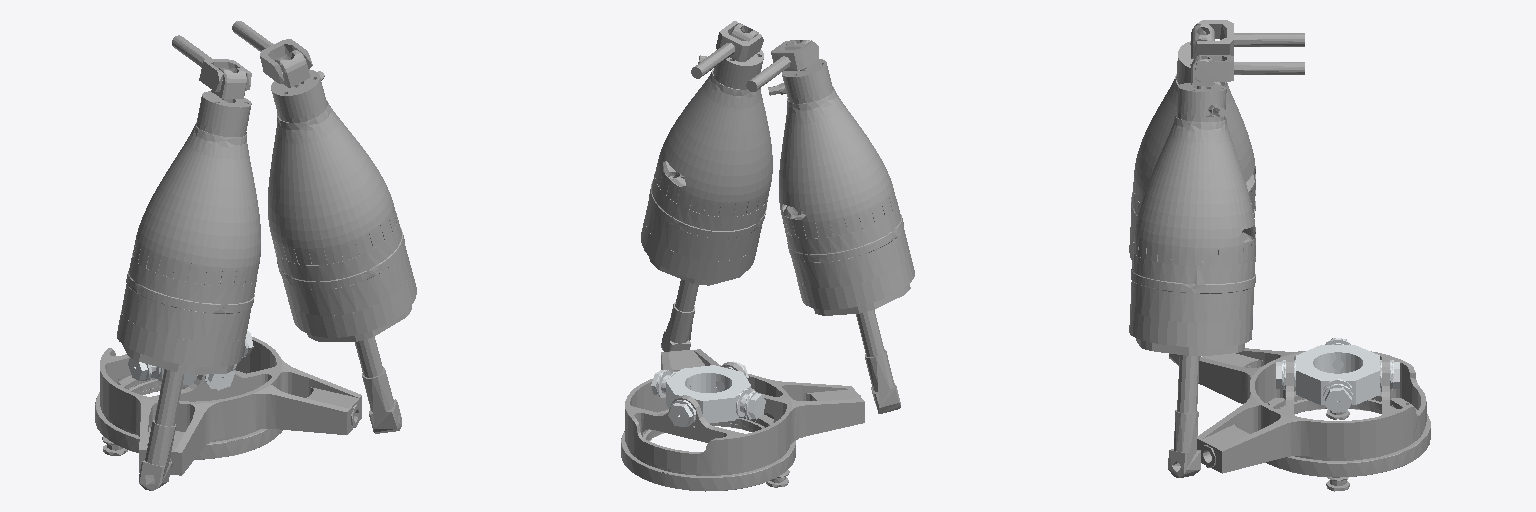
robot.urdf — Body:
<robot name="Body">
  <link name="BodyBase_Link">
    <inertial>
      <origin xyz="0.0 0.0 0.0" rpy="0.0 0.0 0.0"/>
      <mass value="0.0"/>
      <inertia ixx="0.0" ixy="0.0" ixz="0.0" iyy="0.0" iyz="0.0" izz="0.0"/>
    </inertial>
  </link>
  <joint name="BodyPitch" type="revolute">
    <origin xyz="0.0 0.0 0.0" rpy="3.14159 0.0 1.5708"/>
    <axis xyz="0.0 1.0 0.0"/>
    <parent link="BodyBase_Link"/>
    <child link="BodyPitch_Link"/>
    <limit effort="140.0" lower="-0.367" upper="0.489" velocity="2.321"/>
  </joint>
  <link name="BodyPitch_Link">
    <inertial>
      <origin xyz="-1.3464e-09 2.3289e-09 2.2552e-09" rpy="0.0 0.0 0.0"/>
      <mass value="0.085152"/>
      <inertia ixx="2.6756e-05" ixy="-2.1852e-12" ixz="-2.2958e-12" iyy="2.6756e-05" iyz="-2.6082e-13" izz="5.0206e-05"/>
    </inertial>
    <visual name="BodyPitch_Link_visual">
      <origin xyz="0.0 0.0 0.0" rpy="0.0 0.0 0.0"/>
      <geometry>
        <mesh filename="../meshes/stl/BodyPitch_Link.STL"/>
      </geometry>
      <material name="">
        <color rgba="0.89804 0.91765 0.92941 1.0"/>
      </material>
    </visual>
    <collision name="BodyPitch_Link_collision">
      <origin xyz="0.0 0.0 0.0" rpy="0.0 0.0 0.0"/>
      <geometry>
        <mesh filename="../meshes/stl/BodyPitch_Link.STL"/>
      </geometry>
    </collision>
  </link>
  <joint name="BodyRoll" type="revolute">
    <origin xyz="0.0 0.0 0.0" rpy="9.4311e-35 0.0 0.0"/>
    <axis xyz="1.0 0.0 0.0"/>
    <parent link="BodyPitch_Link"/>
    <child link="BodyRoll_Link"/>
    <limit effort="140.0" lower="-0.402" upper="0.402" velocity="2.321"/>
  </joint>
  <link name="BodyRoll_Link">
    <inertial>
      <origin xyz="-0.018531 1.3194e-09 0.025426" rpy="0.0 0.0 0.0"/>
      <mass value="0.31532"/>
      <inertia ixx="0.00053663" ixy="-3.6063e-10" ixz="-2.5818e-05" iyy="0.00050964" iyz="-3.7361e-11" izz="0.00097717"/>
    </inertial>
    <visual name="BodyRoll_Link_visual">
      <origin xyz="0.0 0.0 0.0" rpy="0.0 0.0 0.0"/>
      <geometry>
        <mesh filename="../meshes/stl/BodyRoll_Link.STL"/>
      </geometry>
      <material name="">
        <color rgba="0.69804 0.69804 0.69804 1.0"/>
      </material>
    </visual>
    <collision name="BodyRoll_Link_collision">
      <origin xyz="0.0 0.0 0.0" rpy="0.0 0.0 0.0"/>
      <geometry>
        <mesh filename="../meshes/stl/BodyRoll_Link.STL"/>
      </geometry>
    </collision>
  </link>
  <joint name="Body_Act1" type="prismatic">
    <origin xyz="0.0 0.0 0.24008" rpy="5.9043e-18 0.0 -1.0277e-19"/>
    <axis xyz="0.0 0.0 1.0"/>
    <parent link="Body_B12_Link"/>
    <child link="Body_Act1_Link"/>
    <limit effort="874.0" lower="-0.01" upper="0.01" velocity="0.291"/>
  </joint>
  <link name="Body_Act1_Link">
    <inertial>
      <origin xyz="2.411e-13 -1.992e-13 -0.074113" rpy="0.0 0.0 0.0"/>
      <mass value="0.16486"/>
      <inertia ixx="0.00041758" ixy="-7.8776e-09" ixz="8.4801e-16" iyy="0.00041757" iyz="-7.0091e-16" izz="3.5325e-06"/>
    </inertial>
    <visual name="Body_Act1_Link_visual">
      <origin xyz="0.0 0.0 0.0" rpy="0.0 0.0 0.0"/>
      <geometry>
        <mesh filename="../meshes/stl/Body_Act1_Link.STL"/>
      </geometry>
      <material name="">
        <color rgba="0.69804 0.69804 0.69804 1.0"/>
      </material>
    </visual>
    <collision name="Body_Act1_Link_collision">
      <origin xyz="0.0 0.0 0.0" rpy="0.0 0.0 0.0"/>
      <geometry>
        <mesh filename="../meshes/stl/Body_Act1_Link.STL"/>
      </geometry>
    </collision>
  </link>
  <joint name="Body_Act2" type="prismatic">
    <origin xyz="0.0 0.0 0.24008" rpy="-3.8527e-17 0.0 1.2552e-18"/>
    <axis xyz="0.0 0.0 1.0"/>
    <parent link="Body_B22_Link"/>
    <child link="Body_Act2_Link"/>
    <limit effort="874.0" lower="-0.01" upper="0.01" velocity="0.291"/>
  </joint>
  <link name="Body_Act2_Link">
    <inertial>
      <origin xyz="2.4164e-13 1.9856e-13 -0.074113" rpy="0.0 0.0 0.0"/>
      <mass value="0.16486"/>
      <inertia ixx="0.00041758" ixy="7.8776e-09" ixz="8.4854e-16" iyy="0.00041757" iyz="7.0039e-16" izz="3.5325e-06"/>
    </inertial>
    <visual name="Body_Act2_Link_visual">
      <origin xyz="0.0 0.0 0.0" rpy="0.0 0.0 0.0"/>
      <geometry>
        <mesh filename="../meshes/stl/Body_Act2_Link.STL"/>
      </geometry>
      <material name="">
        <color rgba="0.69804 0.69804 0.69804 1.0"/>
      </material>
    </visual>
    <collision name="Body_Act2_Link_collision">
      <origin xyz="0.0 0.0 0.0" rpy="0.0 0.0 0.0"/>
      <geometry>
        <mesh filename="../meshes/stl/Body_Act2_Link.STL"/>
      </geometry>
    </collision>
  </link>
  <joint name="Body_B11" type="revolute">
    <origin xyz="-0.02 -0.08 0.21" rpy="-2.90242 0.0 1.57079632679"/>
    <axis xyz="1.0 0.0 0.0"/>
    <parent link="BodyBase_Link"/>
    <child link="Body_B11_Link"/>
    <limit effort="0.0" lower="0" upper="0" velocity="0.0"/>
  </joint>
  <link name="Body_B11_Link">
    <inertial>
      <origin xyz="0.024193 0.0 -1.3878e-17" rpy="0.0 0.0 0.0"/>
      <mass value="0.041"/>
      <inertia ixx="1.7814e-06" ixy="5.5829e-22" ixz="1.8238e-21" iyy="1.2712e-05" iyz="-6.3527e-22" izz="1.3807e-05"/>
    </inertial>
    <visual name="Body_B11_Link_visual">
      <origin xyz="0.0 0.0 0.0" rpy="0.0 0.0 0.0"/>
      <geometry>
        <mesh filename="../meshes/stl/Body_B11_Link.STL"/>
      </geometry>
      <material name="">
        <color rgba="0.69804 0.69804 0.69804 1.0"/>
      </material>
    </visual>
    <collision name="Body_B11_Link_collision">
      <origin xyz="0.0 0.0 0.0" rpy="0.0 0.0 0.0"/>
      <geometry>
        <mesh filename="../meshes/stl/Body_B11_Link.STL"/>
      </geometry>
    </collision>
  </link>
  <joint name="Body_B12" type="revolute">
    <origin xyz="0.0 0.0 0.0" rpy="-1.3337e-15 -0.04601 -2.9484e-18"/>
    <axis xyz="0.0 1.0 0.0"/>
    <parent link="Body_B11_Link"/>
    <child link="Body_B12_Link"/>
    <limit effort="0.0" lower="0" upper="0" velocity="0.0"/>
  </joint>
  <link name="Body_B12_Link">
    <inertial>
      <origin xyz="-2.3739e-06 1.801e-05 0.11892" rpy="0.0 0.0 0.0"/>
      <mass value="0.525"/>
      <inertia ixx="0.00091851" ixy="-2.4755e-08" ixz="5.5277e-07" iyy="0.00091807" iyz="1.2075e-06" izz="0.00039619"/>
    </inertial>
    <visual name="Body_B12_Link_visual">
      <origin xyz="0.0 0.0 0.0" rpy="0.0 0.0 0.0"/>
      <geometry>
        <mesh filename="../meshes/stl/Body_B12_Link.STL"/>
      </geometry>
      <material name="">
        <color rgba="0.69804 0.69804 0.69804 1.0"/>
      </material>
    </visual>
    <collision name="Body_B12_Link_collision">
      <origin xyz="0.0 0.0 0.0" rpy="0.0 0.0 0.0"/>
      <geometry>
        <mesh filename="../meshes/stl/Body_B12_Link.STL"/>
      </geometry>
    </collision>
  </link>
  <joint name="Body_B21" type="revolute">
    <origin xyz="0.02 -0.08 0.21" rpy="2.90242 0.0 1.57079632679"/>
    <axis xyz="1.0 0.0 0.0"/>
    <parent link="BodyBase_Link"/>
    <child link="Body_B21_Link"/>
    <limit effort="0.0" lower="0" upper="0" velocity="0.0"/>
  </joint>
  <link name="Body_B21_Link">
    <inertial>
      <origin xyz="0.024193 0.0 0.0" rpy="0.0 0.0 0.0"/>
      <mass value="0.041"/>
      <inertia ixx="1.7814e-06" ixy="-6.8803e-22" ixz="1.0426e-22" iyy="1.2712e-05" iyz="-1.4823e-21" izz="1.3807e-05"/>
    </inertial>
    <visual name="Body_B21_Link_visual">
      <origin xyz="0.0 0.0 0.0" rpy="0.0 0.0 0.0"/>
      <geometry>
        <mesh filename="../meshes/stl/Body_B21_Link.STL"/>
      </geometry>
      <material name="">
        <color rgba="0.69804 0.69804 0.69804 1.0"/>
      </material>
    </visual>
    <collision name="Body_B21_Link_collision">
      <origin xyz="0.0 0.0 0.0" rpy="0.0 0.0 0.0"/>
      <geometry>
        <mesh filename="../meshes/stl/Body_B21_Link.STL"/>
      </geometry>
    </collision>
  </link>
  <joint name="Body_B22" type="revolute">
    <origin xyz="0.0 0.0 0.0" rpy="-3.612e-16 -0.04601 -1.0723e-18"/>
    <axis xyz="0.0 1.0 0.0"/>
    <parent link="Body_B21_Link"/>
    <child link="Body_B22_Link"/>
    <limit effort="0.0" lower="0" upper="0" velocity="0.0"/>
  </joint>
  <link name="Body_B22_Link">
    <inertial>
      <origin xyz="-2.375e-06 1.8011e-05 0.11892" rpy="0.0 0.0 0.0"/>
      <mass value="0.525"/>
      <inertia ixx="0.00091851" ixy="-2.4752e-08" ixz="5.5262e-07" iyy="0.00091807" iyz="1.2073e-06" izz="0.00039619"/>
    </inertial>
    <visual name="Body_B22_Link_visual">
      <origin xyz="0.0 0.0 0.0" rpy="0.0 0.0 0.0"/>
      <geometry>
        <mesh filename="../meshes/stl/Body_B22_Link.STL"/>
      </geometry>
      <material name="">
        <color rgba="0.69804 0.69804 0.69804 1.0"/>
      </material>
    </visual>
    <collision name="Body_B22_Link_collision">
      <origin xyz="0.0 0.0 0.0" rpy="0.0 0.0 0.0"/>
      <geometry>
        <mesh filename="../meshes/stl/Body_B22_Link.STL"/>
      </geometry>
    </collision>
  </link>
</robot>

--- Facts derived from the render (not from the file) ---
3 views of the same robot in one strip: view 1: azimuth 30°, elevation 25°; view 2: azimuth 150°, elevation 25°; view 3: azimuth 270°, elevation 25° (orthographic).
Model Body with 9 links and 8 joints (6 revolute, 2 prismatic), rooted at BodyBase_Link, posed every joint at zero.
Links seen in each view (by area): view 1: Body_B12_Link, Body_B22_Link, BodyRoll_Link, Body_Act1_Link, Body_Act2_Link, Body_B21_Link, Body_B11_Link, BodyPitch_Link; view 2: Body_B12_Link, Body_B22_Link, BodyRoll_Link, BodyPitch_Link, Body_Act1_Link, Body_Act2_Link, Body_B21_Link, Body_B11_Link; view 3: Body_B22_Link, BodyRoll_Link, BodyPitch_Link, Body_B12_Link, Body_Act2_Link, Body_B11_Link, Body_B21_Link.
Boxes of the visible links, left/top/right/bottom form: Body_B12_Link: left=117, top=68, right=260, bottom=374; Body_B22_Link: left=268, top=50, right=416, bottom=341; BodyRoll_Link: left=95, top=337, right=361, bottom=475; Body_Act1_Link: left=139, top=369, right=183, bottom=490; Body_Act2_Link: left=355, top=337, right=401, bottom=433; Body_B21_Link: left=232, top=21, right=312, bottom=83; Body_B11_Link: left=172, top=35, right=251, bottom=91; BodyPitch_Link: left=128, top=330, right=253, bottom=390; Body_B12_Link: left=768, top=40, right=914, bottom=315; Body_B22_Link: left=641, top=23, right=772, bottom=285; BodyRoll_Link: left=621, top=349, right=864, bottom=491; BodyPitch_Link: left=651, top=361, right=765, bottom=426; Body_Act1_Link: left=856, top=310, right=900, bottom=413; Body_Act2_Link: left=661, top=279, right=698, bottom=351; Body_B21_Link: left=691, top=21, right=763, bottom=78; Body_B11_Link: left=746, top=40, right=818, bottom=91; Body_B22_Link: left=1129, top=55, right=1255, bottom=355; BodyRoll_Link: left=1197, top=348, right=1430, bottom=491; BodyPitch_Link: left=1276, top=338, right=1399, bottom=412; Body_B12_Link: left=1129, top=24, right=1255, bottom=260; Body_Act2_Link: left=1168, top=355, right=1200, bottom=477; Body_B11_Link: left=1194, top=20, right=1304, bottom=56; Body_B21_Link: left=1194, top=55, right=1304, bottom=81.
Bounding box of the posed robot: 0.1871 × 0.1789 × 0.2679 m (x, y, z).
Meshes: 8 distinct files referenced, 8 mesh visuals loaded (8 binary STL).